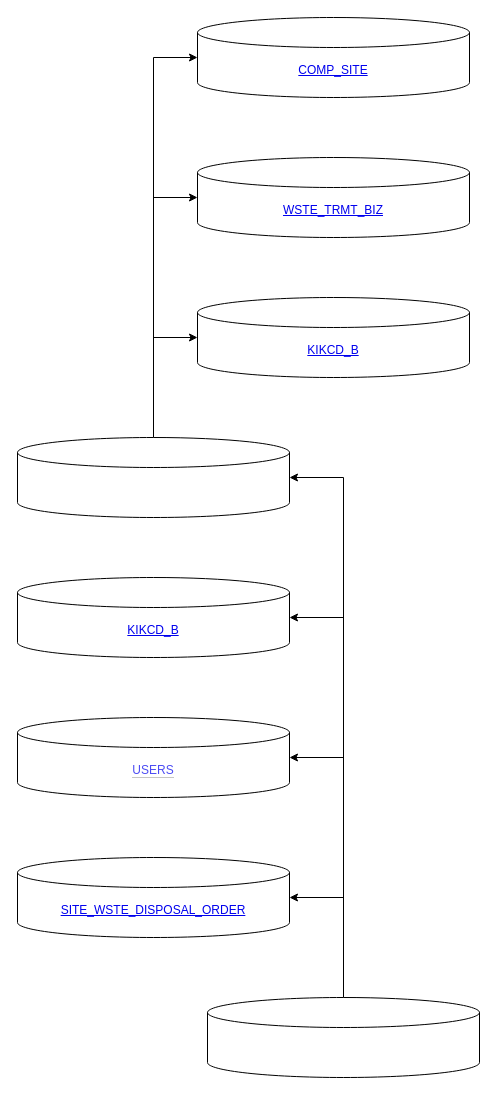
Image size: 497x1095. Some labels were removed from this diagram. The centre of each missing label's shape, as x and y in pixels:
"V_COMP_SITE" belongs at point 153,477.
"V_SITE_WSTE_DISPOSAL_ORDER" belongs at point 343,1037.
